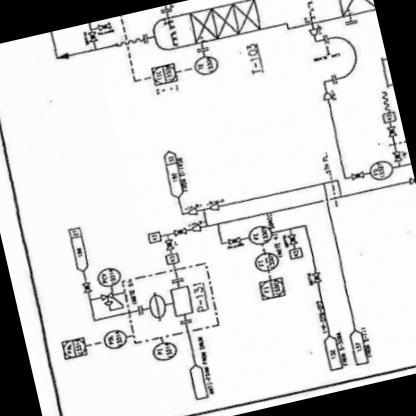LMI: (147, 338, 182, 366), (190, 52, 223, 80), (367, 156, 396, 182), (101, 326, 130, 352), (94, 264, 124, 288), (251, 249, 281, 273), (245, 222, 274, 246)
TAG: (56, 330, 88, 362), (148, 58, 179, 86), (256, 276, 289, 302)
